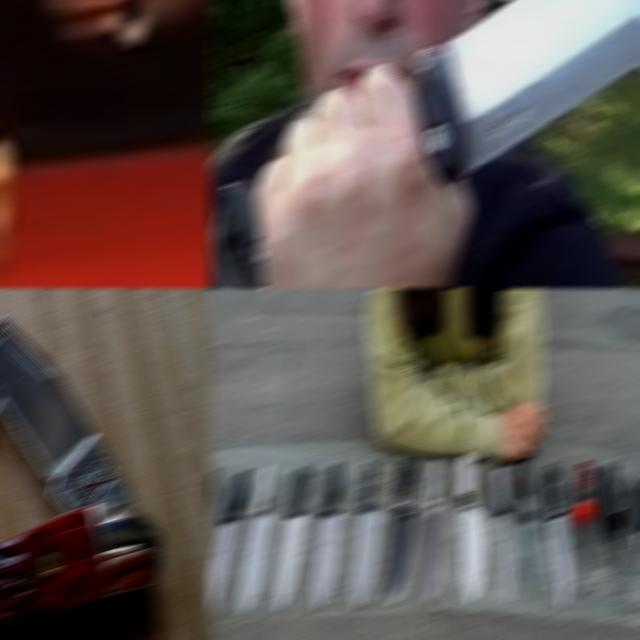Knife: (414, 0, 640, 182), (208, 471, 249, 620), (276, 466, 313, 609), (239, 466, 273, 613), (351, 462, 384, 609), (386, 458, 419, 605), (597, 463, 634, 594), (542, 462, 575, 606), (312, 463, 344, 610), (456, 453, 487, 602), (420, 458, 447, 603), (514, 464, 542, 597), (492, 463, 515, 608), (568, 462, 596, 572), (625, 475, 640, 606)
